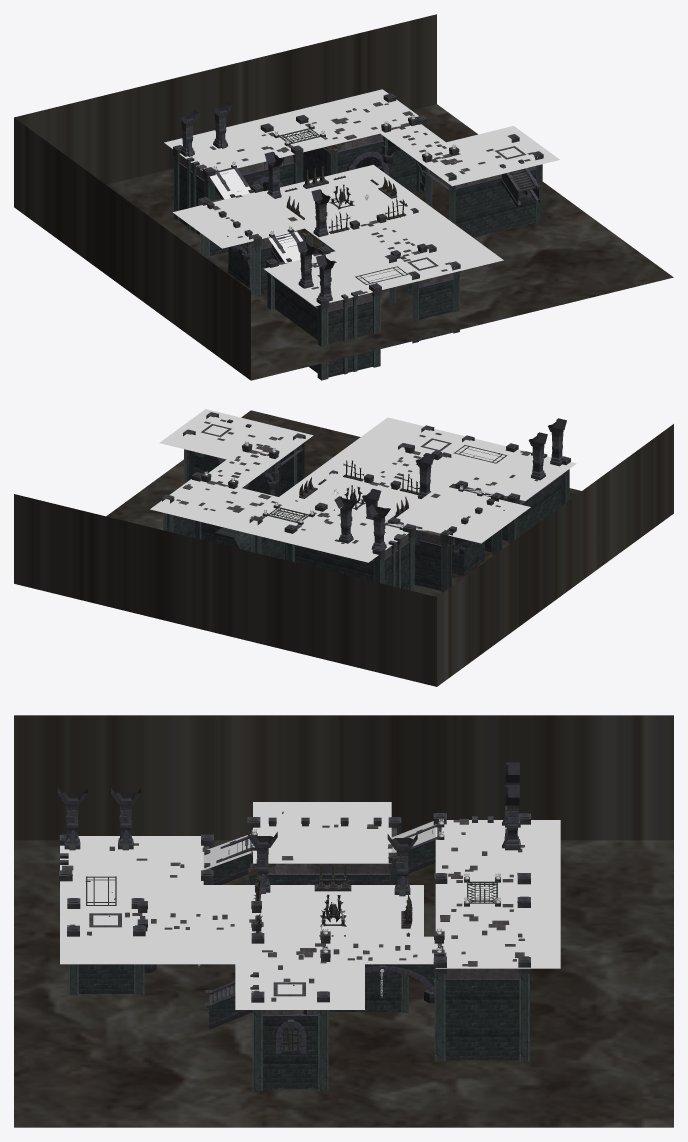
File: baimo_section06_guanka07.FBX
3 renders of one model, top to bottom at view 1: azimuth 30°, elevation 25°; view 2: azimuth 150°, elevation 25°; view 3: azimuth 270°, elevation 25°, orthographic. The views are drawn at different scales.
Visible parts, largest first — view 1: Plane01, Plane02, Group01, building_section02_guanka10C15, building_section02_guanka10C17, building_section02_guanka10C24, building_section02_guanka10C18, building_section02_guanka10C02, building_section02_guanka10C22, common_underground_dashizhu10, common_underground_dashizhu15, common_underground_dashizhu14 (+3 smaller); view 2: Plane01, Plane02, Group01, building_section02_guanka10C18, building_section02_guanka10C17, building_section02_guanka10C15, building_section02_guanka10C02, common_underground_dashizhu08, common_underground_dashizhu10, common_underground_dashizhu11, common_underground_dashizhu09, building_section02_guanka10C22 (+1 smaller); view 3: Plane01, Plane02, building_section02_guanka10C17, building_section02_guanka10C15, Group01, building_section02_guanka10C18, building_section02_guanka10C24, building_section02_guanka10C02, building_section02_guanka10C23, common_underground_dashizhu08, common_underground_dashizhu11, common_underground_dashizhu14 (+3 smaller).
Boxes of the visible parts, x1,y1,x2,y2 form: Plane01: (14,14,673,380); Plane02: (164,89,559,306); Group01: (173,123,540,380); building_section02_guanka10C15: (422,134,543,237); building_section02_guanka10C17: (296,93,426,191); building_section02_guanka10C24: (385,244,460,343); building_section02_guanka10C18: (198,184,312,297); building_section02_guanka10C02: (381,117,459,190); building_section02_guanka10C22: (349,213,427,286); common_underground_dashizhu10: (296,240,315,288); common_underground_dashizhu15: (311,189,330,236); common_underground_dashizhu14: (264,151,283,198); Plane01: (14,410,673,686); Plane02: (150,409,576,562); Group01: (227,419,570,591); building_section02_guanka10C18: (387,488,503,592); building_section02_guanka10C17: (162,472,285,560); building_section02_guanka10C15: (183,412,305,496); building_section02_guanka10C02: (201,443,279,489); common_underground_dashizhu08: (334,496,357,543); common_underground_dashizhu10: (528,432,547,480); common_underground_dashizhu11: (548,418,566,466); common_underground_dashizhu09: (367,504,390,549); building_section02_guanka10C22: (364,444,441,489); Plane01: (14,715,673,1127); Plane02: (60,802,560,1009); building_section02_guanka10C17: (433,896,530,1061); building_section02_guanka10C15: (251,932,329,1090); Group01: (59,813,530,1028); building_section02_guanka10C18: (247,817,401,884); building_section02_guanka10C24: (67,898,145,995); building_section02_guanka10C02: (315,931,446,1003); building_section02_guanka10C23: (328,971,408,1012); common_underground_dashizhu08: (502,785,520,850); common_underground_dashizhu11: (57,788,87,850); common_underground_dashizhu14: (387,834,417,896).
Bounding box in the file's own units: 146 × 52.96 × 142.
